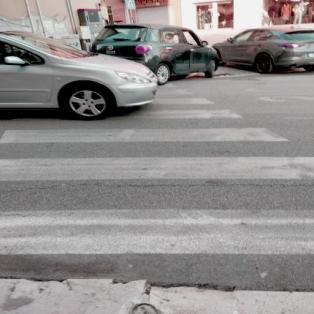Paso de Cebra: (1, 107, 293, 146)
